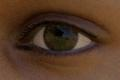eye: (43, 24, 78, 51)
